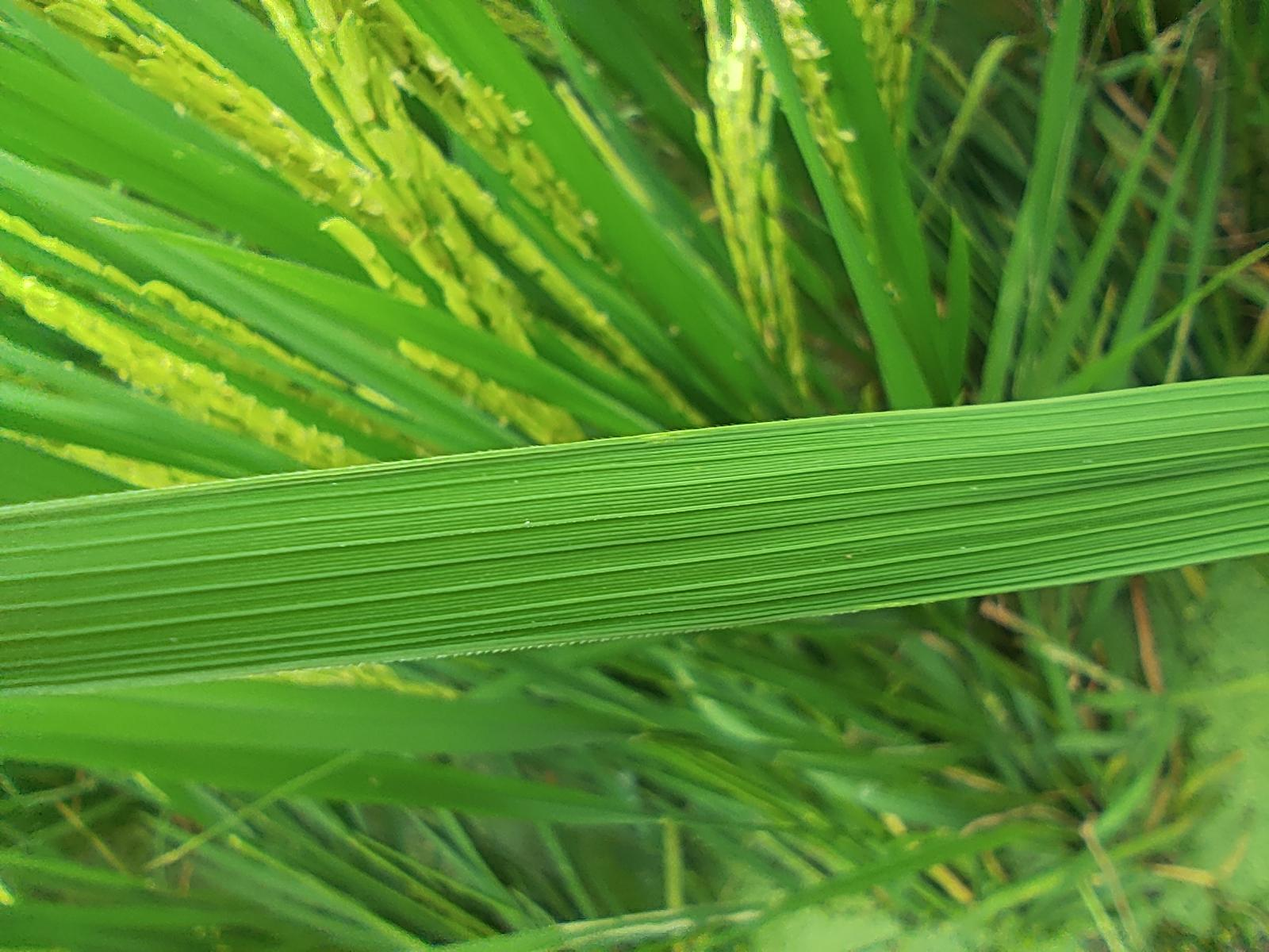Healthy: (345, 0, 767, 951)
